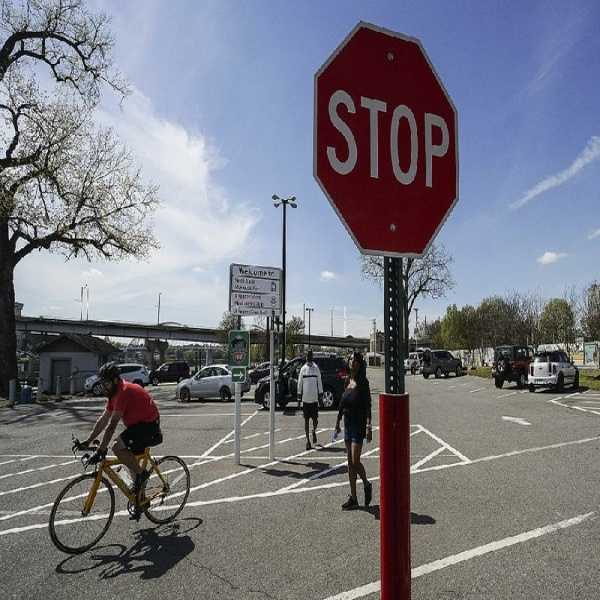stop: (307, 26, 465, 260)
